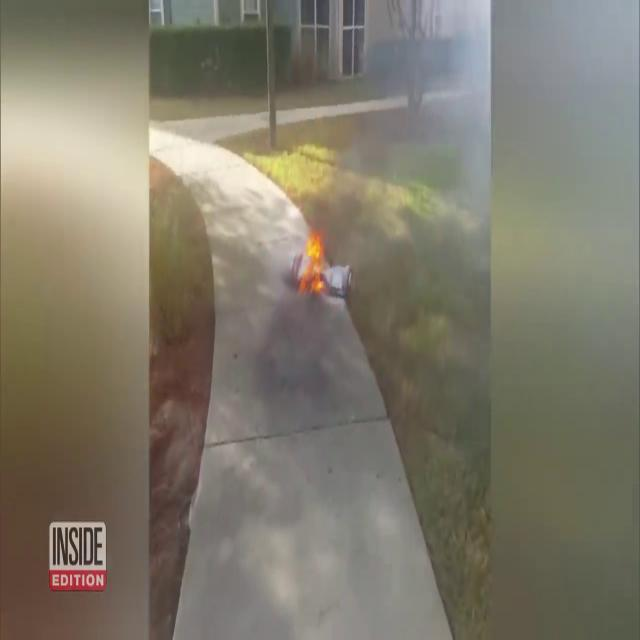Fire: (298, 228, 328, 294)
Smoke: (330, 2, 490, 258)
